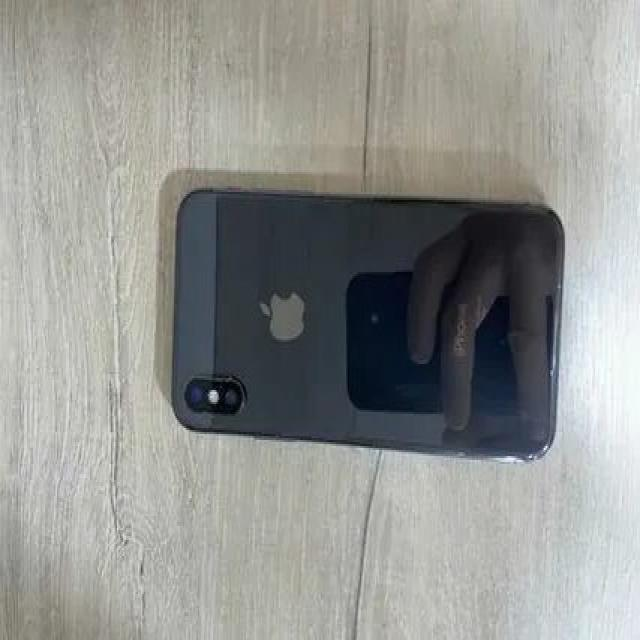phone good: (160, 169, 584, 487)
